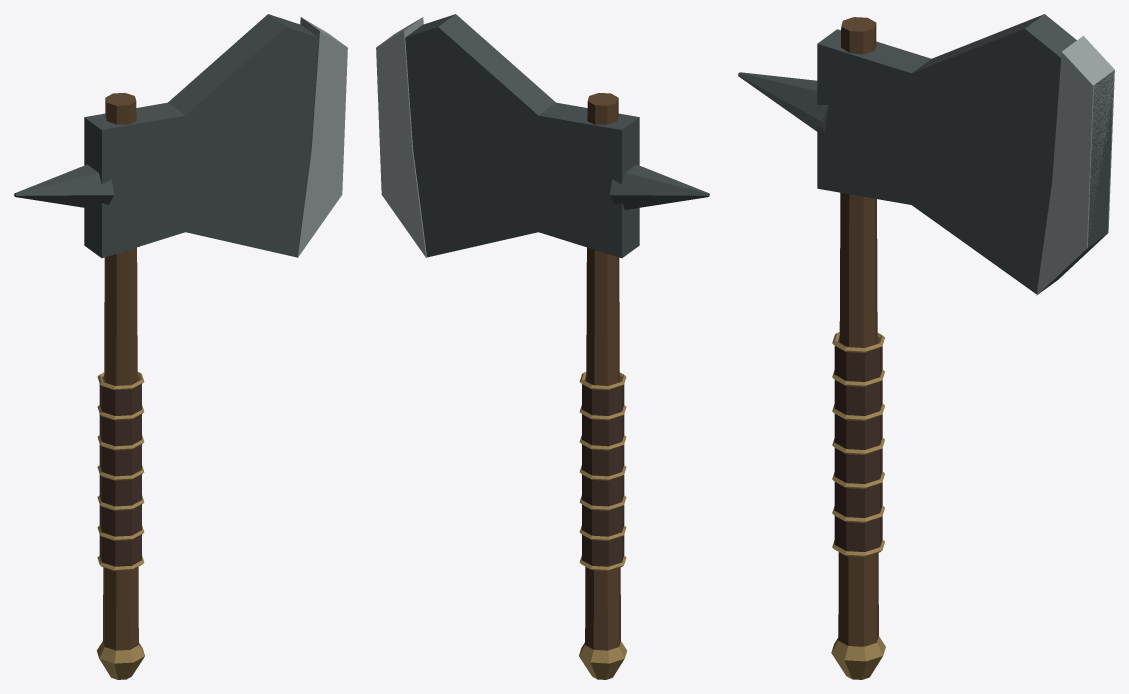
Rendered from WPN_Axe_00_Riven.glb.
3 views of the same model, side by side, from view 1: azimuth 30°, elevation 25°; view 2: azimuth 150°, elevation 25°; view 3: azimuth 330°, elevation 25° (orthographic). The views are drawn at different scales.
Visible parts, largest first — view 1: WPN_Axe_00_Riven__Body; view 2: WPN_Axe_00_Riven__Body; view 3: WPN_Axe_00_Riven__Body.
Boxes of the visible parts, x1,y1,x2,y2 form: WPN_Axe_00_Riven__Body: (14,14,347,679); WPN_Axe_00_Riven__Body: (376,14,709,679); WPN_Axe_00_Riven__Body: (738,14,1114,679).
Size of the model in its own units: 0.5803 by 1.06 by 0.08.
